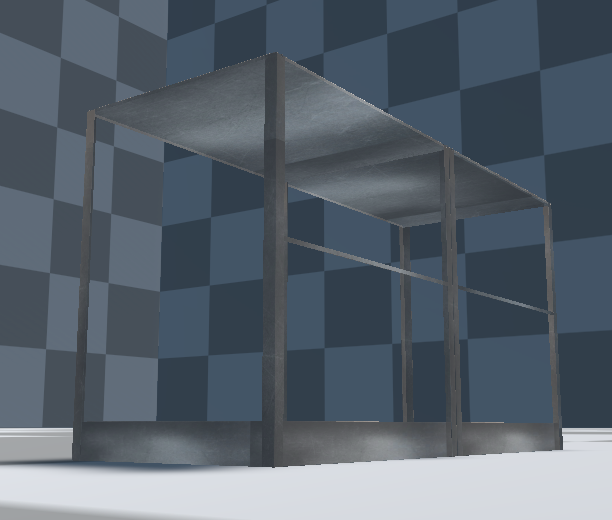Rack: (68, 49, 569, 470)
